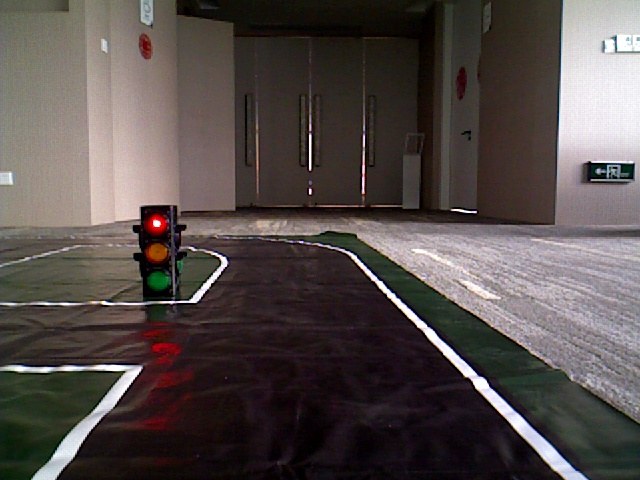red: (141, 208, 173, 295)
